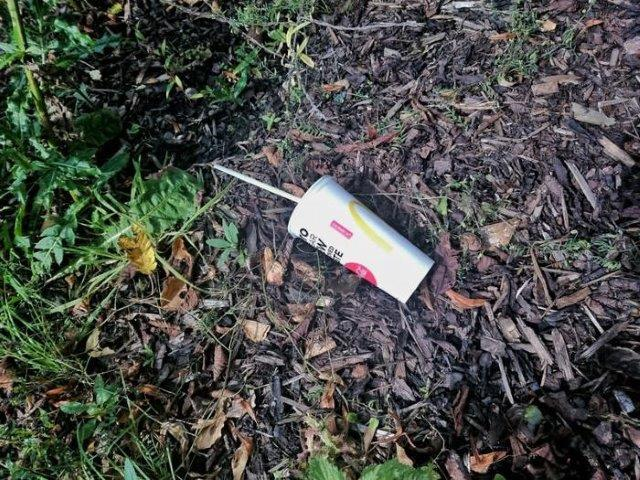sedotan: (213, 163, 300, 202)
